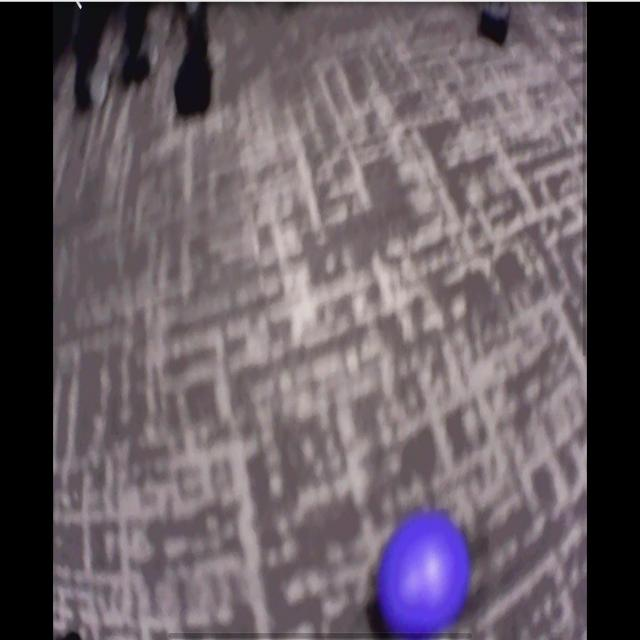ball: (377, 513, 472, 640)
